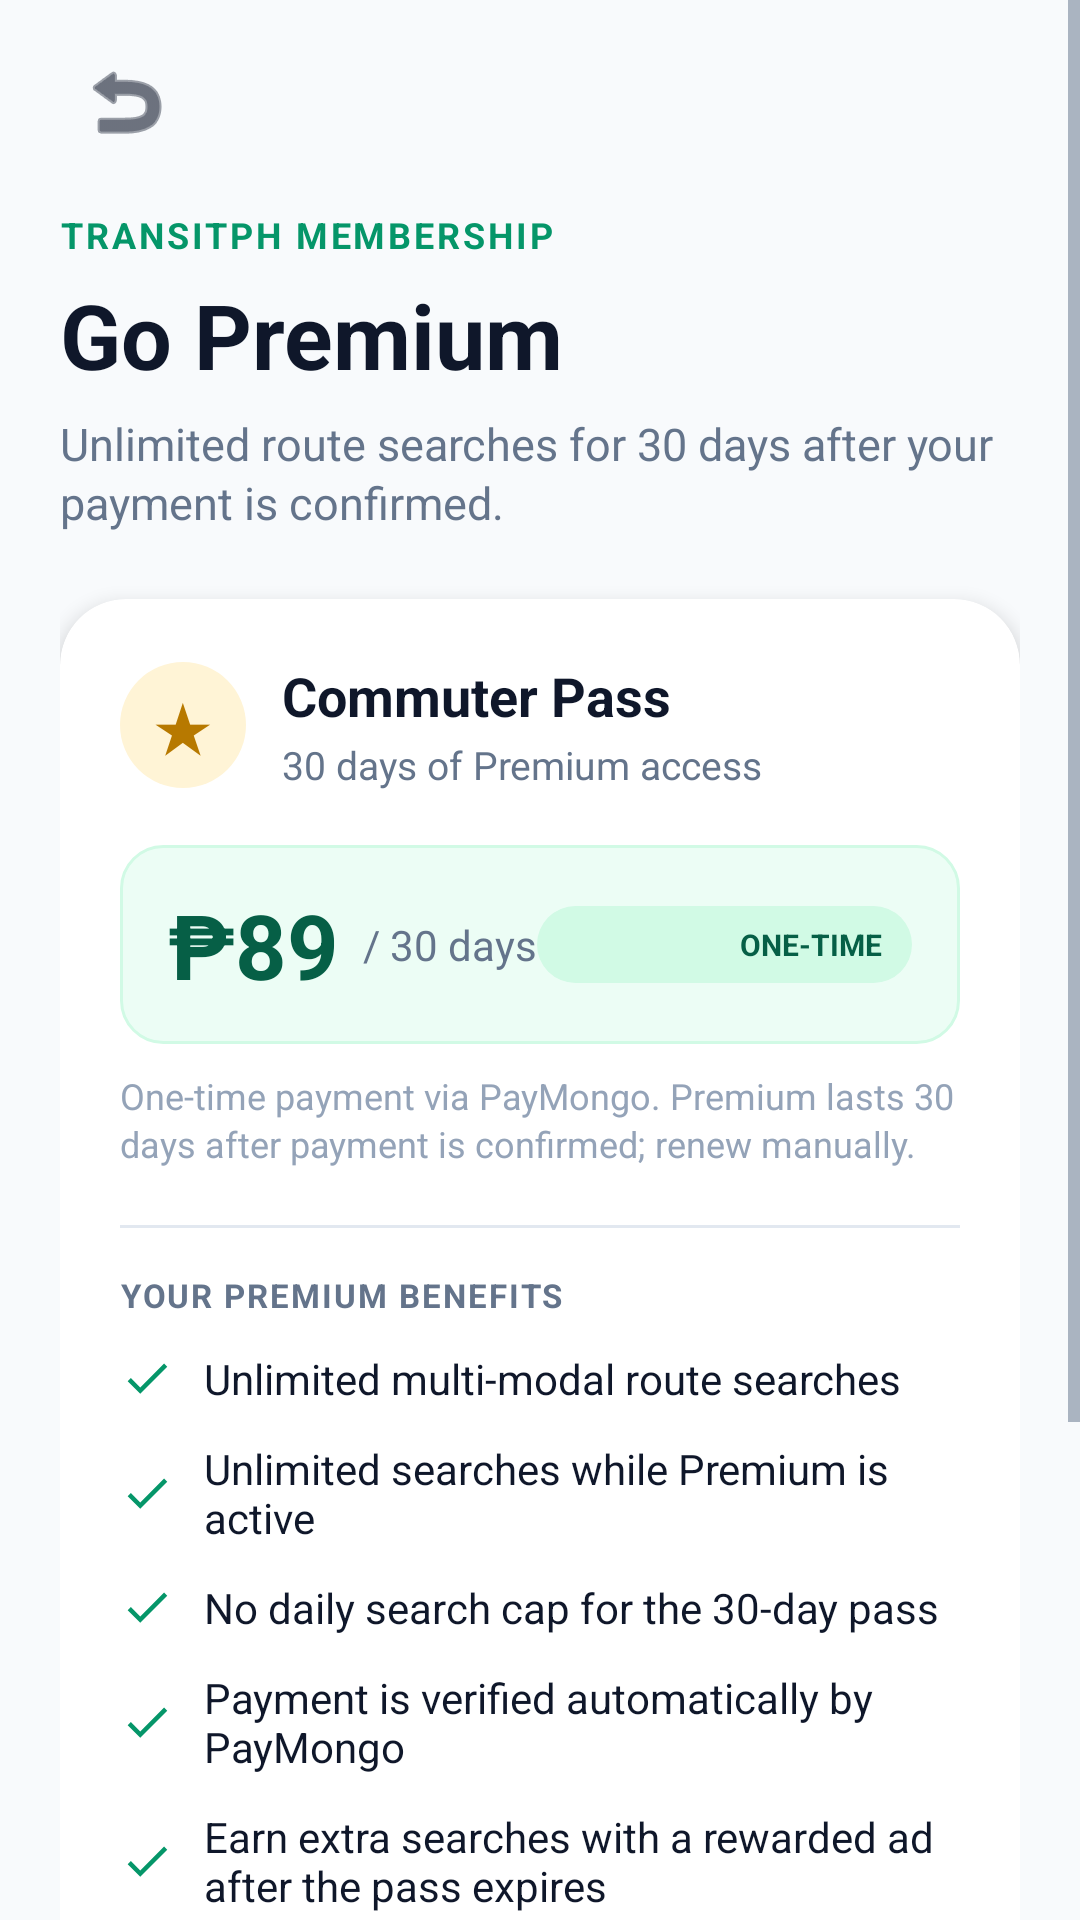

Point at icon controls on the screen. Image size 1080 × 1920, points as (x,y).
Back: (127,102)
